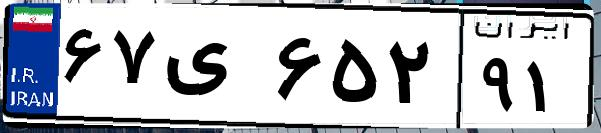1: (525, 38, 570, 115)
2: (385, 28, 445, 110)
5: (330, 28, 385, 110)
6: (270, 28, 330, 110), (57, 26, 110, 100)
7: (110, 28, 158, 98)
9: (475, 38, 525, 113)
ی: (158, 20, 270, 120)
